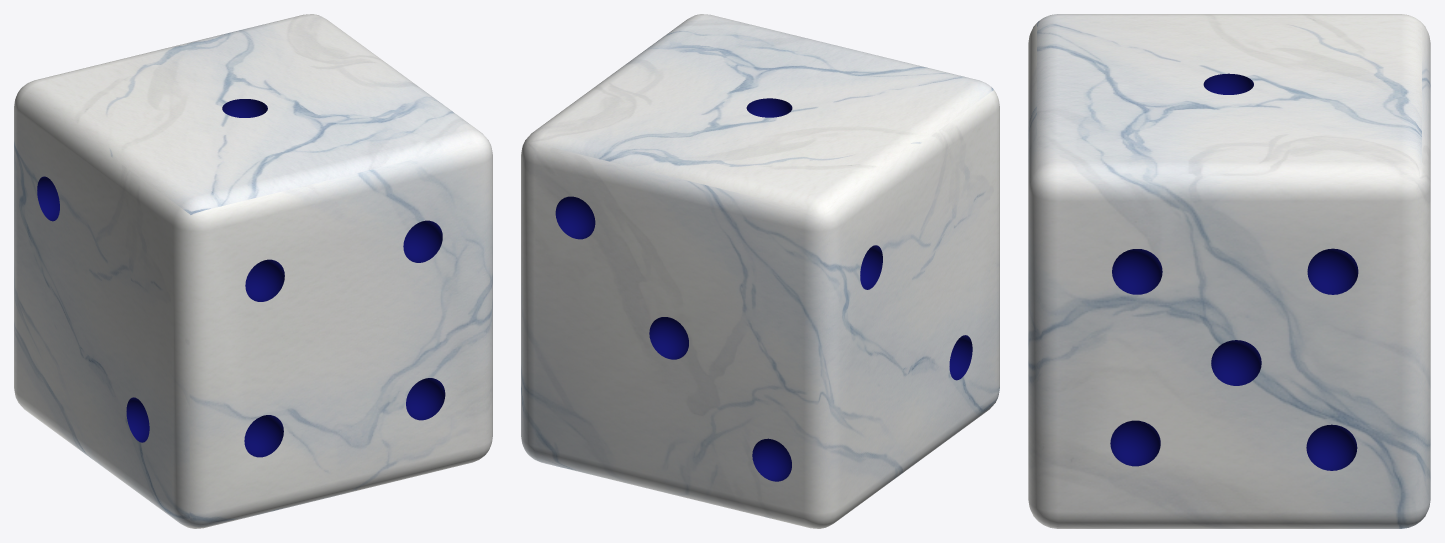
The model's file is lulud6.glb.
The picture shows the model from 3 angles, left to right: view 1: azimuth 30°, elevation 25°; view 2: azimuth 150°, elevation 25°; view 3: azimuth 270°, elevation 25°; orthographic projection. The views are drawn at different scales.
Visible parts, largest first — view 1: Cube; view 2: Cube; view 3: Cube.
Boxes of the visible parts, x1,y1,x2,y2 form: Cube: (14,14,492,528); Cube: (521,14,999,528); Cube: (1028,14,1430,528).
Size of the model in its own units: 2 by 2 by 2.
Materials: 2 (1 with a texture image).
